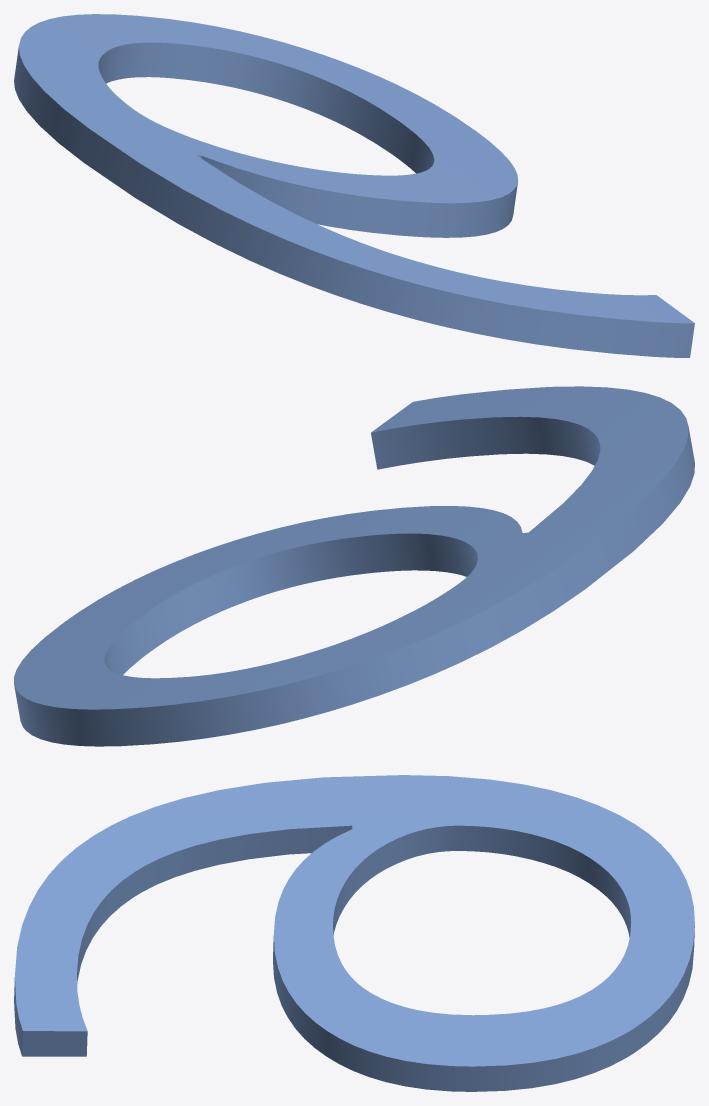
Rendered from New_Number_6.gltf.
3 renders of one model, top to bottom at view 1: azimuth 30°, elevation 25°; view 2: azimuth 150°, elevation 25°; view 3: azimuth 270°, elevation 25°, orthographic. The views are drawn at different scales.
Visible parts, largest first — view 1: Part 330; view 2: Part 330; view 3: Part 330.
Part boxes in pixels (bbox=[...]): Part 330: bbox=[14, 14, 694, 357]; Part 330: bbox=[14, 386, 694, 746]; Part 330: bbox=[14, 775, 694, 1091].
Size of the model in its own units: 0.0035 by 0.00132 by 0.00566.
